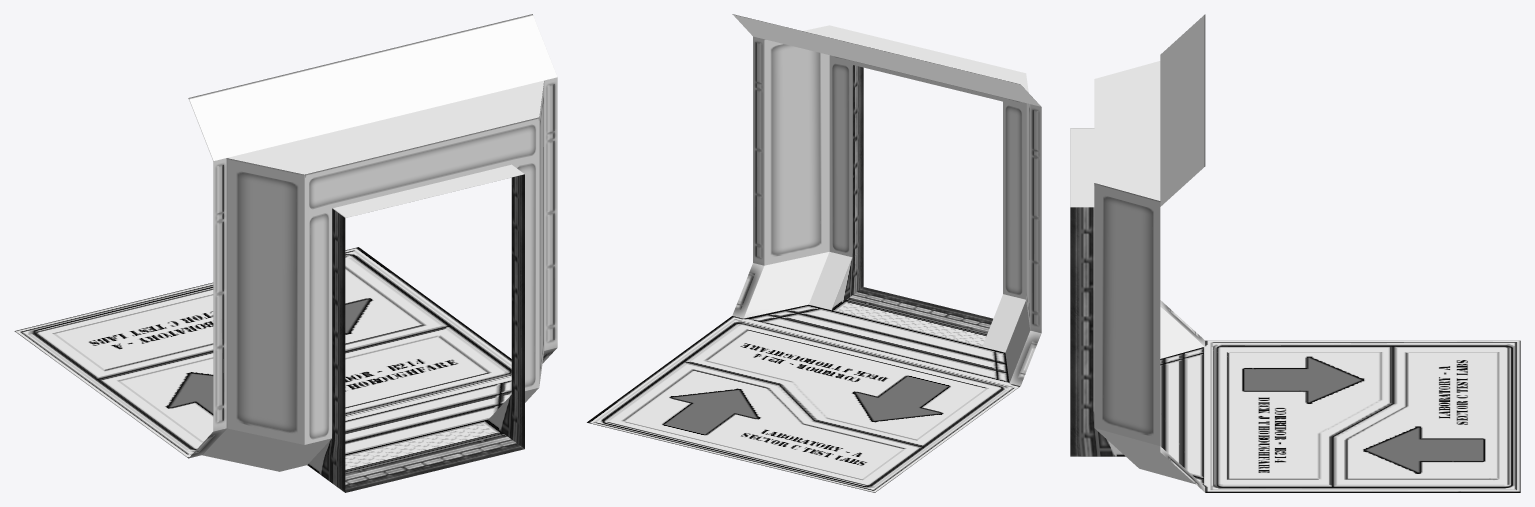
File: Sect_Wall_5_Door.FBX
3 renders of one model, left to right at view 1: azimuth 30°, elevation 25°; view 2: azimuth 150°, elevation 25°; view 3: azimuth 270°, elevation 25°, orthographic. The views are drawn at different scales.
Parts seen in each view (by area): view 1: Sect_Door_A_007, Sect_Floor_Door1_007; view 2: Sect_Floor_Door1_007, Sect_Door_A_007; view 3: Sect_Floor_Door1_007, Sect_Door_A_007.
Boxes of the visible parts, bbox=[...] form: Sect_Door_A_007: bbox=[188, 14, 557, 492]; Sect_Floor_Door1_007: bbox=[14, 247, 524, 492]; Sect_Floor_Door1_007: bbox=[587, 287, 1019, 492]; Sect_Door_A_007: bbox=[732, 14, 1041, 386]; Sect_Floor_Door1_007: bbox=[1160, 340, 1520, 492]; Sect_Door_A_007: bbox=[1070, 14, 1205, 492].
Size of the model in its own units: 4 by 4 by 5.
